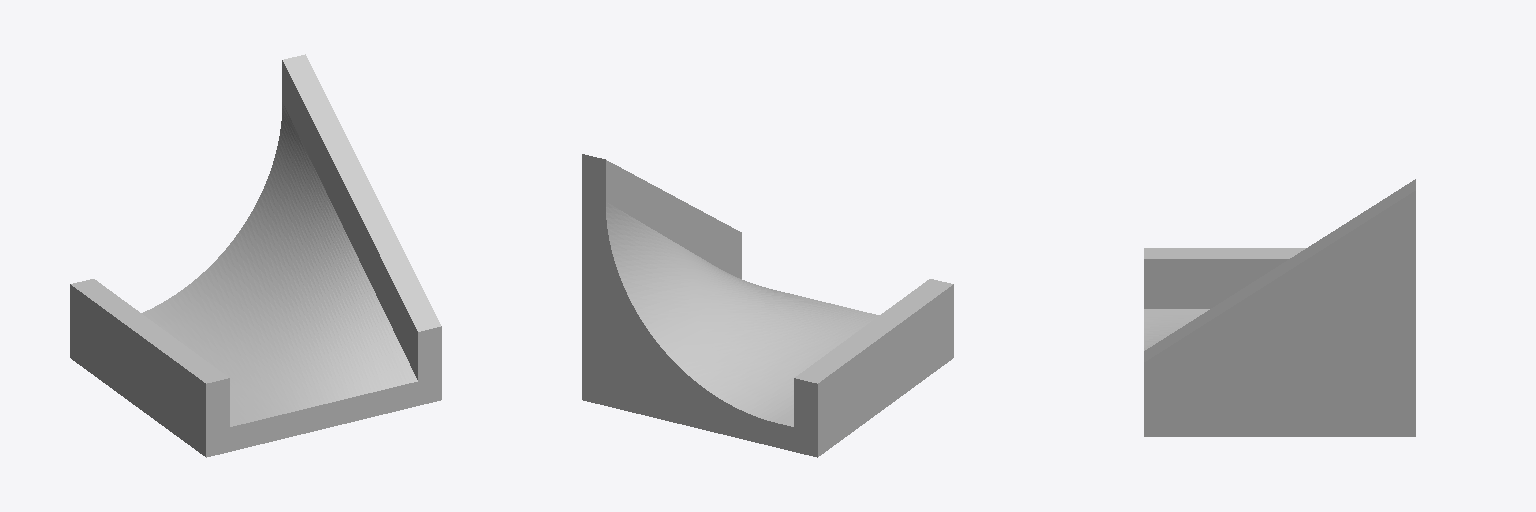
The model's file is BankedTransitionRight.obj.
The picture shows the model from 3 angles: view 1: azimuth 30°, elevation 25°; view 2: azimuth 150°, elevation 25°; view 3: azimuth 270°, elevation 25°; orthographic projection.
Visible parts, largest first — view 1: BankedTransitionRight; view 2: BankedTransitionRight; view 3: BankedTransitionRight.
Boxes of the visible parts, x1,y1,x2,y2 form: BankedTransitionRight: [70, 54, 441, 457]; BankedTransitionRight: [582, 154, 953, 457]; BankedTransitionRight: [1144, 179, 1415, 436].
Bounding box in the file's own units: 2 × 2 × 2.